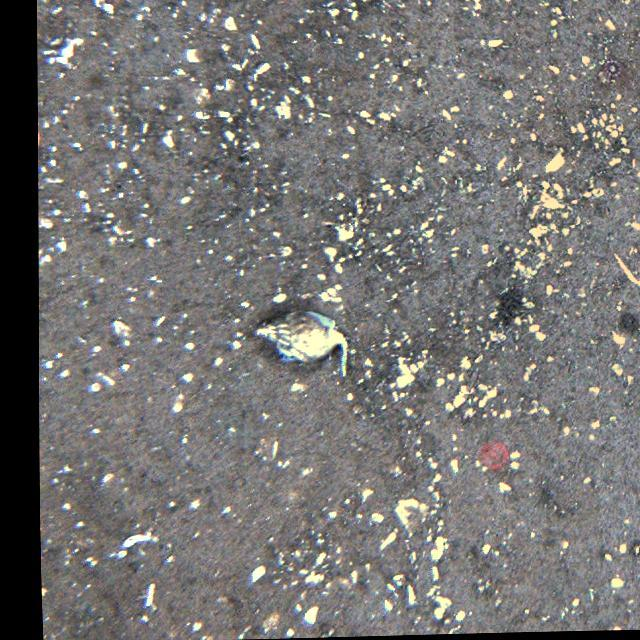whelk: (256, 308, 346, 364)
